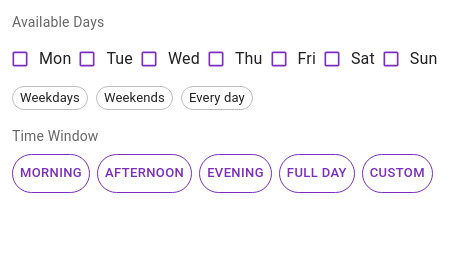
Test: AvailabilitySelector component › shows custom time inputs when Custom preset is selected
The image size is (454, 266).
Click the button "Custom". click: x=397, y=173
box: [362, 154, 433, 193]
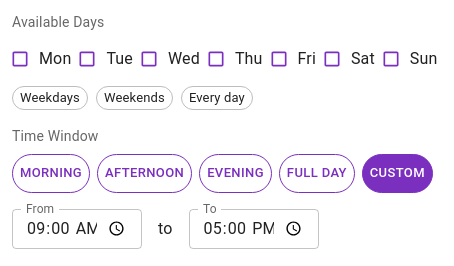
expect the time field labelled "From" is shown: met, box [12, 209, 142, 249]
expect the time field labelled "To" is shown: met, box [188, 209, 318, 249]
